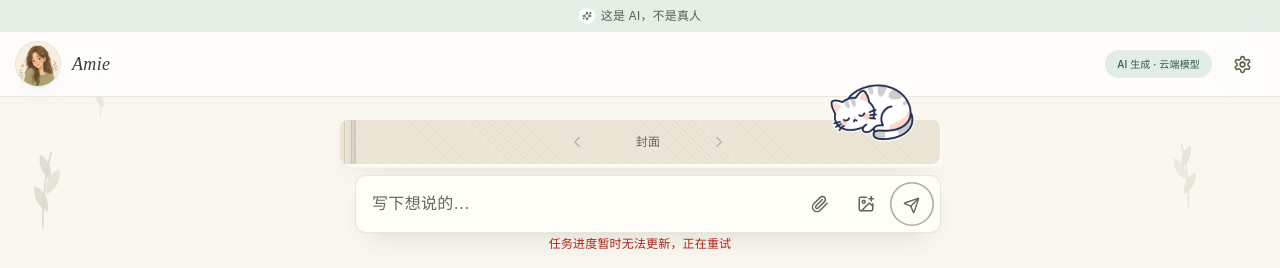
ChatPage › explains send failure {"code":"CLOUD_NOT_CONSENTED"} without losing the draft
The width and height of the screenshot is (1280, 268).
In the text box named "聊天消息": point(584, 204) [372,182,796,226], type "这条会失败"
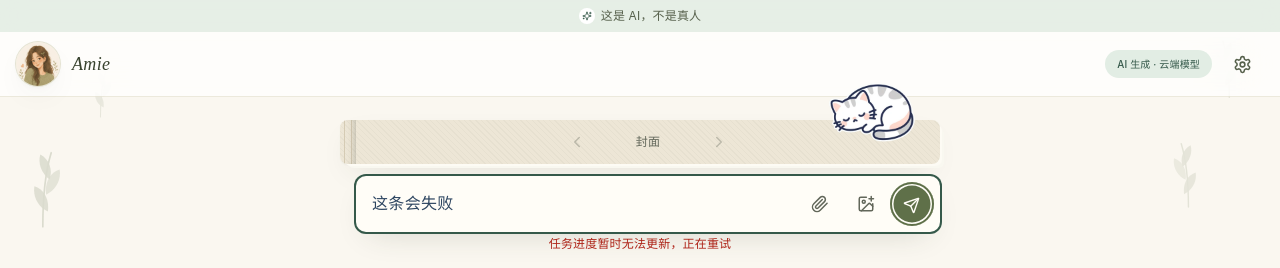
Click the button named "发送消息": point(912, 204) [890,182,934,226]
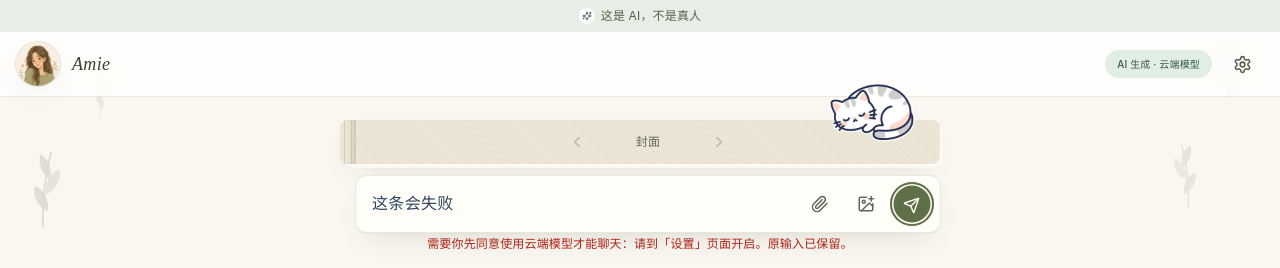
Expected: the text "需要你先同意使用云端模型才能聊天：请到「设置」页面开启。原输入已保留。" is shown, [427,236,853,251]
